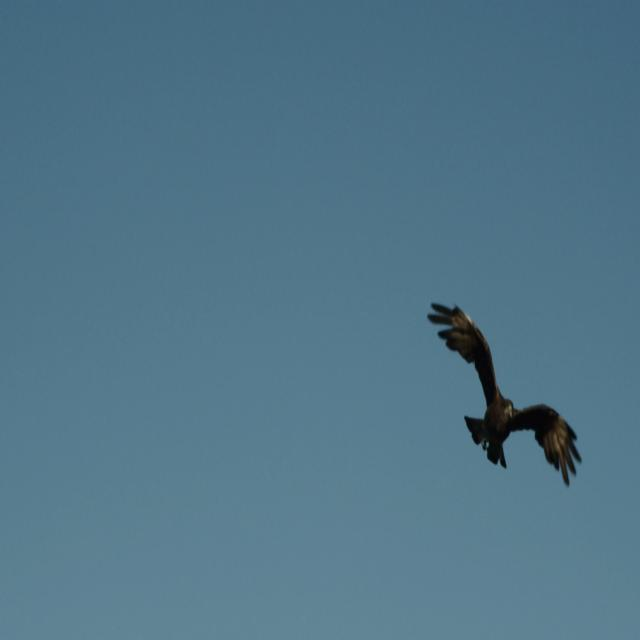bird: (422, 295, 586, 498)
